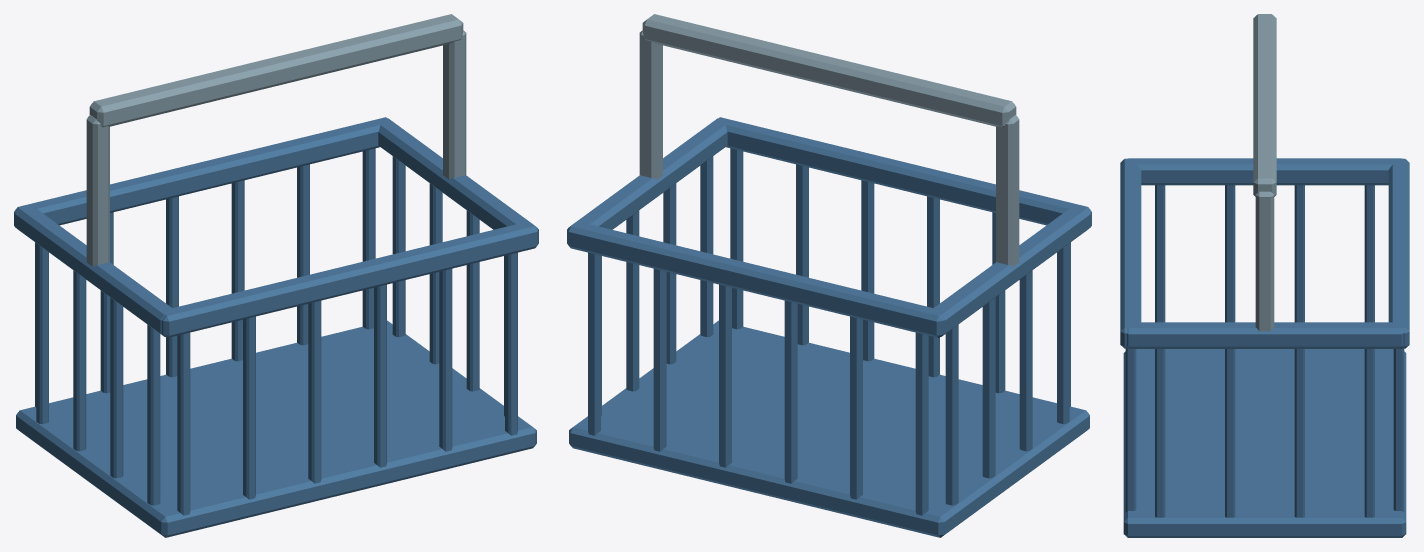
Rendered from retail_wire_basket.glb.
3 views of the same model, side by side, from view 1: azimuth 30°, elevation 25°; view 2: azimuth 150°, elevation 25°; view 3: azimuth 270°, elevation 25° (orthographic). The views are drawn at different scales.
Parts seen in each view (by area): view 1: basket_floor, basket_front_rod (×11), basket_top_rim (×2), basket_side_rod (×7), basket_handle, basket_side_rim (×2), basket_handle_stem (×2); view 2: basket_floor, basket_front_rod (×11), basket_top_rim (×2), basket_side_rod (×7), basket_handle, basket_side_rim (×2), basket_handle_stem (×2); view 3: basket_floor, basket_side_rim (×2), basket_side_rod (×8), basket_top_rim (×2), basket_handle, basket_front_rod (×2), basket_handle_stem.
Boxes of the visible parts, x1,y1,x2,y2 form: basket_floor: (16,320,536,537); basket_front_rod (×11): (100,148,517,515); basket_top_rim (×2): (14,117,538,337); basket_side_rod (×7): (36,156,479,505); basket_handle: (89,14,463,127); basket_side_rim (×2): (15,118,537,336); basket_handle_stem (×2): (86,30,466,266); basket_floor: (569,320,1089,537); basket_front_rod (×11): (588,148,1005,515); basket_top_rim (×2): (567,117,1091,337); basket_side_rod (×7): (626,156,1069,505); basket_handle: (642,14,1016,127); basket_side_rim (×2): (568,118,1090,336); basket_handle_stem (×2): (639,30,1019,266); basket_floor: (1123,349,1406,537); basket_side_rim (×2): (1127,158,1402,348); basket_side_rod (×8): (1155,185,1374,517); basket_top_rim (×2): (1120,158,1409,348); basket_handle: (1253,14,1276,196); basket_front_rod (×2): (1125,348,1404,511); basket_handle_stem: (1255,191,1274,331).
Bounding box in the file's own units: 0.392 × 0.3765 × 0.276.
